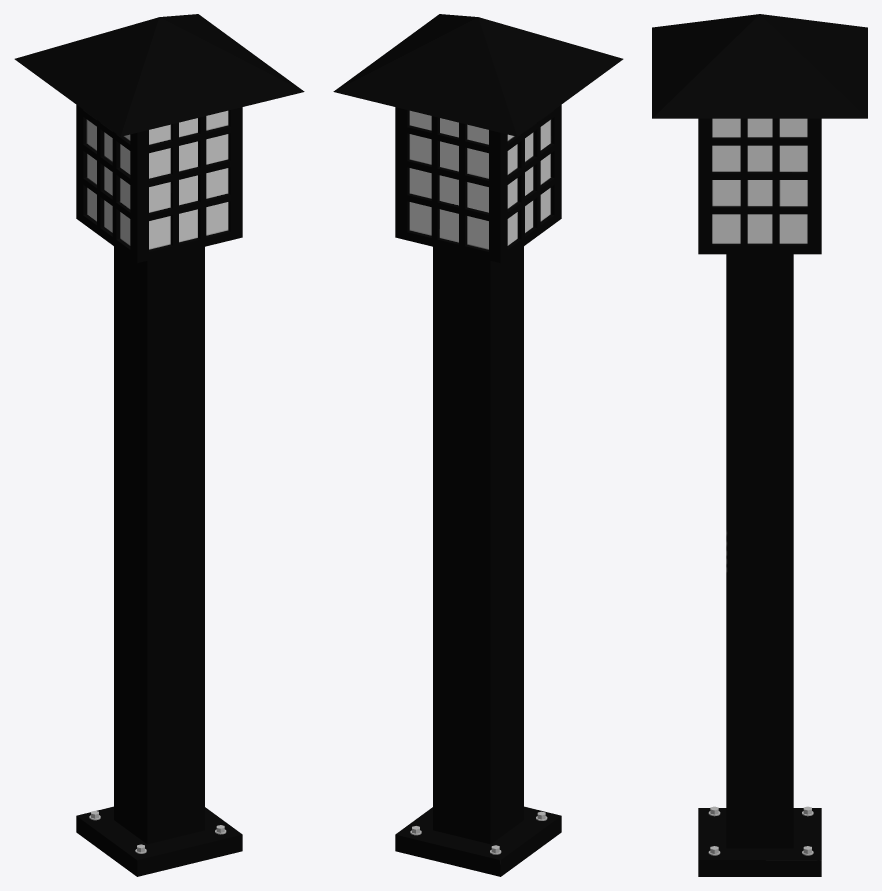
Rendered from lamp.glb.
3 renders of one model, left to right at view 1: azimuth 30°, elevation 25°; view 2: azimuth 150°, elevation 25°; view 3: azimuth 270°, elevation 25°, orthographic.
Parts seen in each view (by area): view 1: Garden lamp_0; view 2: Garden lamp_0; view 3: Garden lamp_0.
Boxes of the visible parts, x1,y1,x2,y2 form: Garden lamp_0: (14,14,304,876); Garden lamp_0: (333,14,623,876); Garden lamp_0: (652,14,867,876).
Size of the model in its own units: 0.2315 by 0.996 by 0.2315.
Materials: 1 (1 with a texture image).
